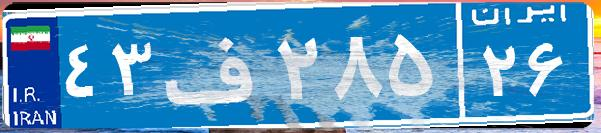2: (273, 28, 330, 110), (475, 38, 525, 113)
3: (110, 28, 158, 105)
4: (57, 26, 110, 107)
5: (385, 28, 445, 110)
6: (525, 38, 570, 115)
8: (330, 28, 385, 110)
ف: (158, 15, 273, 115)
